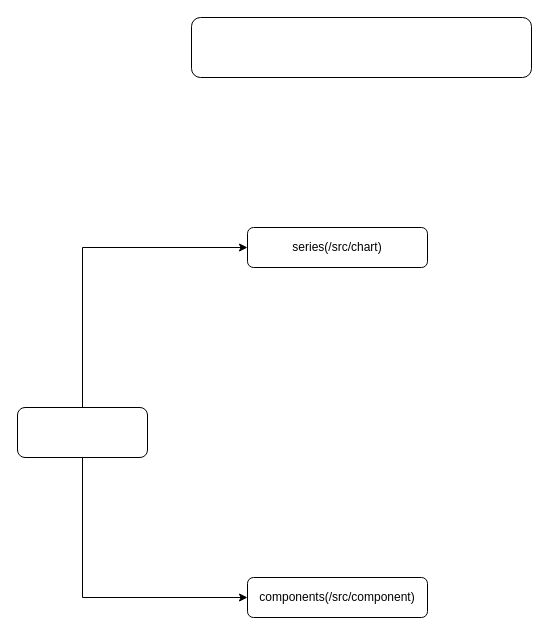
The diagram is 549 pixels wide and 635 high, and some of its shapes have lost their labels. Each missing label, with the box of its shape:
echarts: (16, 406, 148, 458)
系列（series）+ 组件（components）= A echarts instance: (190, 16, 532, 78)
